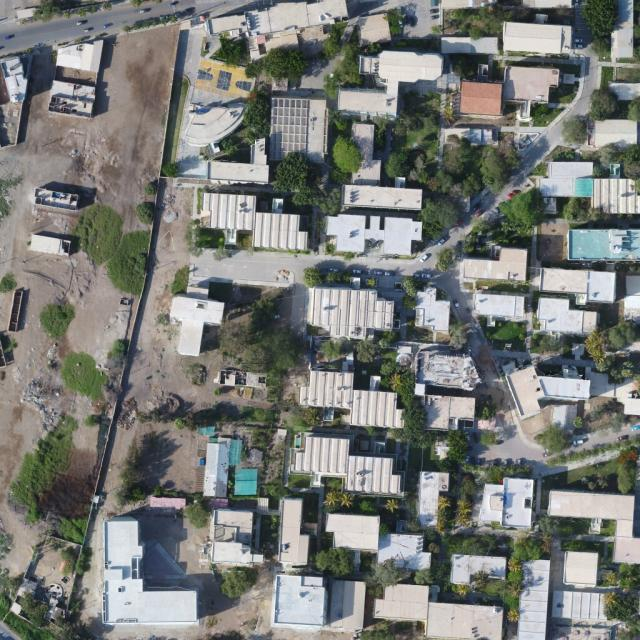building: (103, 518, 199, 626), (295, 358, 415, 443), (507, 351, 597, 421), (47, 32, 104, 118), (307, 286, 395, 341), (324, 211, 424, 258), (178, 97, 253, 151), (269, 96, 329, 163), (164, 295, 225, 360), (290, 434, 351, 486), (208, 134, 271, 183), (415, 349, 485, 392), (272, 576, 329, 628), (540, 267, 619, 304), (537, 296, 601, 338), (549, 492, 636, 522), (338, 77, 400, 117), (378, 49, 445, 85), (463, 245, 529, 281), (278, 499, 311, 568), (504, 21, 574, 53), (200, 192, 257, 230), (374, 584, 430, 622), (325, 514, 381, 552), (342, 184, 423, 210), (504, 66, 560, 103), (253, 213, 309, 250), (350, 457, 404, 495), (379, 535, 433, 571), (329, 581, 366, 632), (450, 556, 507, 589), (352, 123, 382, 185), (423, 396, 476, 431), (537, 297, 587, 334), (209, 507, 255, 546), (414, 286, 452, 333), (418, 472, 450, 527), (502, 478, 535, 529), (553, 593, 610, 622), (203, 442, 232, 499), (593, 178, 640, 213), (325, 213, 366, 252), (460, 80, 504, 116), (474, 292, 527, 321), (210, 541, 265, 568), (612, 0, 635, 61), (565, 552, 601, 587), (480, 484, 508, 526), (356, 13, 392, 45), (542, 269, 588, 293), (384, 217, 413, 255), (442, 36, 498, 55), (32, 187, 78, 210), (214, 370, 266, 389), (28, 234, 70, 255), (204, 14, 248, 34), (244, 6, 272, 36), (264, 30, 298, 51), (540, 178, 576, 197), (234, 469, 258, 497), (550, 163, 594, 178), (42, 581, 65, 605), (611, 81, 640, 100), (149, 497, 186, 511), (16, 579, 37, 601), (43, 606, 65, 626), (229, 440, 243, 467), (575, 178, 594, 197), (9, 603, 23, 617)
dryland: (125, 181, 247, 417)
greenland: (382, 87, 500, 202), (209, 288, 323, 400), (436, 130, 523, 206), (108, 425, 180, 516), (443, 0, 577, 42), (64, 197, 136, 269), (487, 179, 553, 256), (265, 146, 334, 213), (53, 347, 114, 403), (103, 226, 150, 296), (372, 354, 428, 410), (392, 89, 443, 150), (392, 401, 447, 456), (413, 192, 465, 247), (266, 147, 319, 196), (435, 427, 475, 479), (12, 590, 56, 632), (308, 547, 357, 581), (262, 48, 309, 82), (211, 31, 252, 69), (582, 0, 620, 39), (601, 143, 640, 180), (333, 41, 364, 87), (444, 534, 506, 557), (602, 317, 640, 354), (39, 304, 74, 338), (472, 573, 507, 607), (222, 568, 258, 601), (332, 135, 362, 174), (617, 446, 640, 495), (512, 537, 552, 563), (584, 328, 609, 367), (414, 563, 451, 588), (591, 88, 619, 120), (323, 490, 356, 516), (384, 148, 411, 178), (563, 196, 591, 223), (57, 519, 86, 545), (407, 448, 424, 490), (436, 496, 454, 535), (406, 494, 422, 534), (581, 473, 611, 494), (356, 339, 380, 364), (459, 475, 480, 502), (357, 496, 379, 520), (437, 247, 457, 272), (506, 578, 528, 599), (383, 496, 404, 516), (453, 584, 473, 601), (461, 241, 477, 257), (622, 362, 635, 379), (379, 524, 391, 538)
